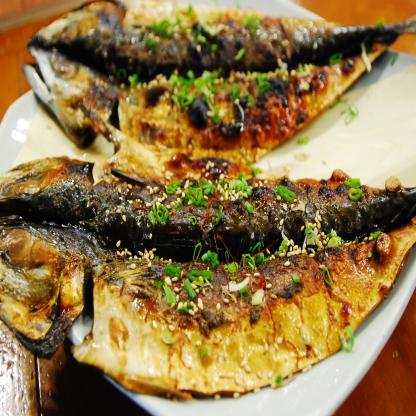Peixe: (0, 177, 412, 383), (20, 4, 407, 184)
